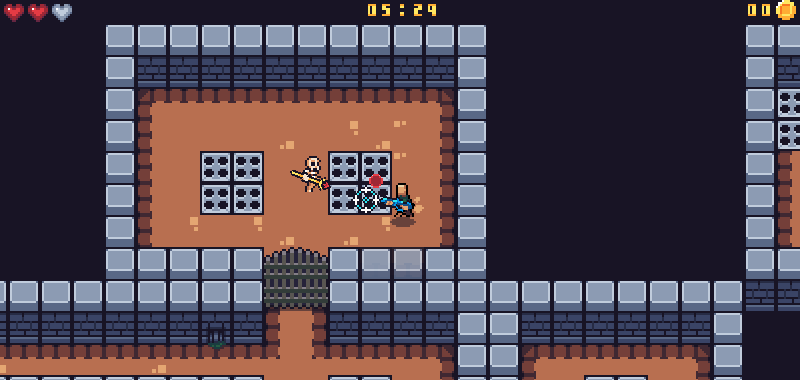enemy_skeleton: (290, 154, 332, 195)
enemy_skeleton_shoot: (368, 172, 385, 190)
trap_door: (258, 241, 333, 310)
trap_off: (328, 151, 393, 213), (202, 152, 264, 213)
